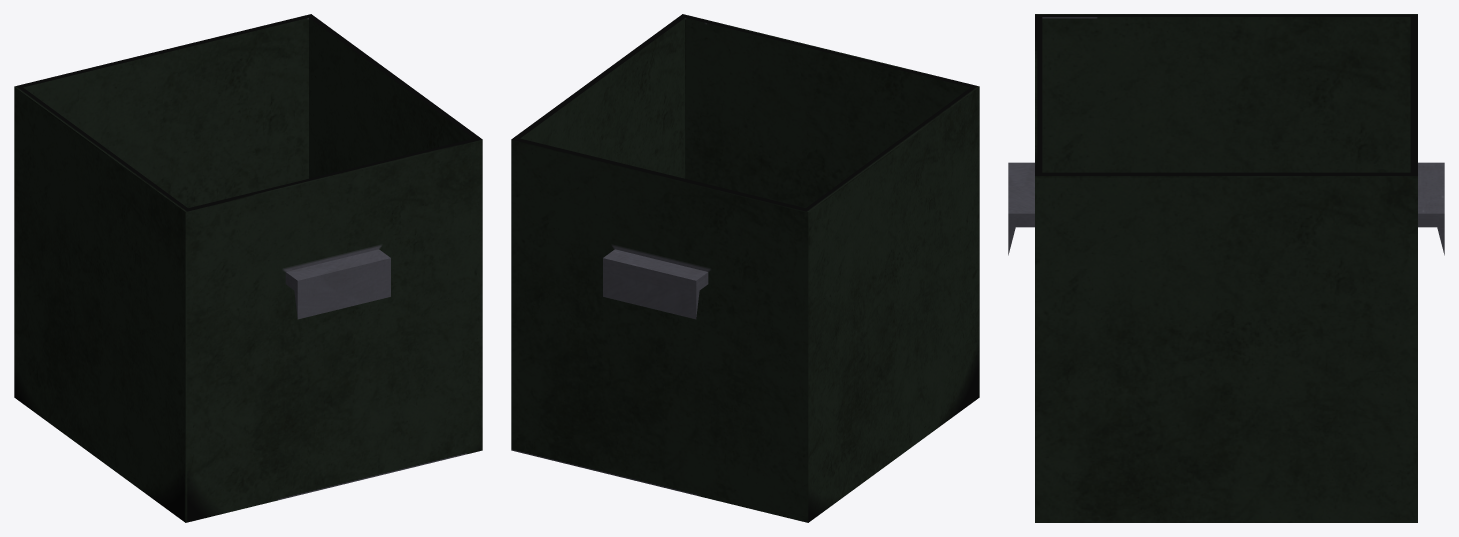
File: box_removeable_top.glb
3 renders of one model, left to right at view 1: azimuth 30°, elevation 25°; view 2: azimuth 150°, elevation 25°; view 3: azimuth 270°, elevation 25°, orthographic. The views are drawn at different scales.
Visible parts, largest first — view 1: Box; view 2: Box; view 3: Box.
Boxes of the visible parts, left/top/right/bottom form: Box: left=14, top=14, right=482, bottom=522; Box: left=511, top=14, right=979, bottom=522; Box: left=1008, top=14, right=1444, bottom=522.
Bounding box in the file's own units: 0.3374 × 0.3374 × 0.3846.
Materials: 1 (1 with a texture image).
